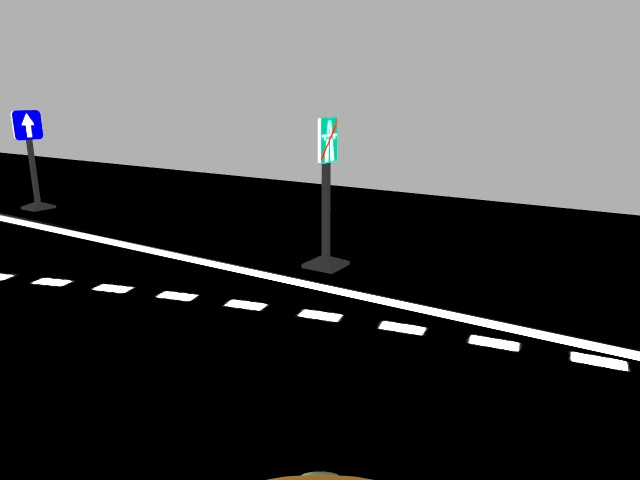HighwayExit: (314, 116, 337, 165)
OneWay: (8, 109, 43, 139)
